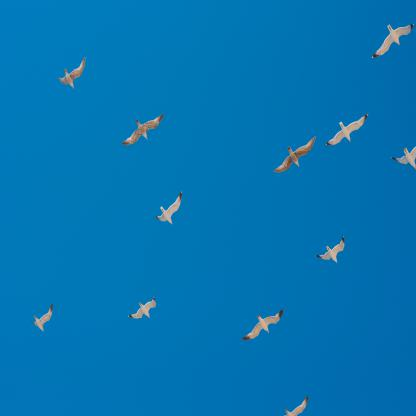bird: (371, 23, 415, 59), (274, 136, 316, 173), (325, 112, 369, 147), (121, 113, 164, 148), (241, 308, 285, 341), (156, 192, 183, 228), (57, 57, 86, 90), (314, 235, 346, 264), (30, 302, 54, 334), (390, 145, 416, 173), (127, 296, 157, 320), (280, 395, 312, 416)
